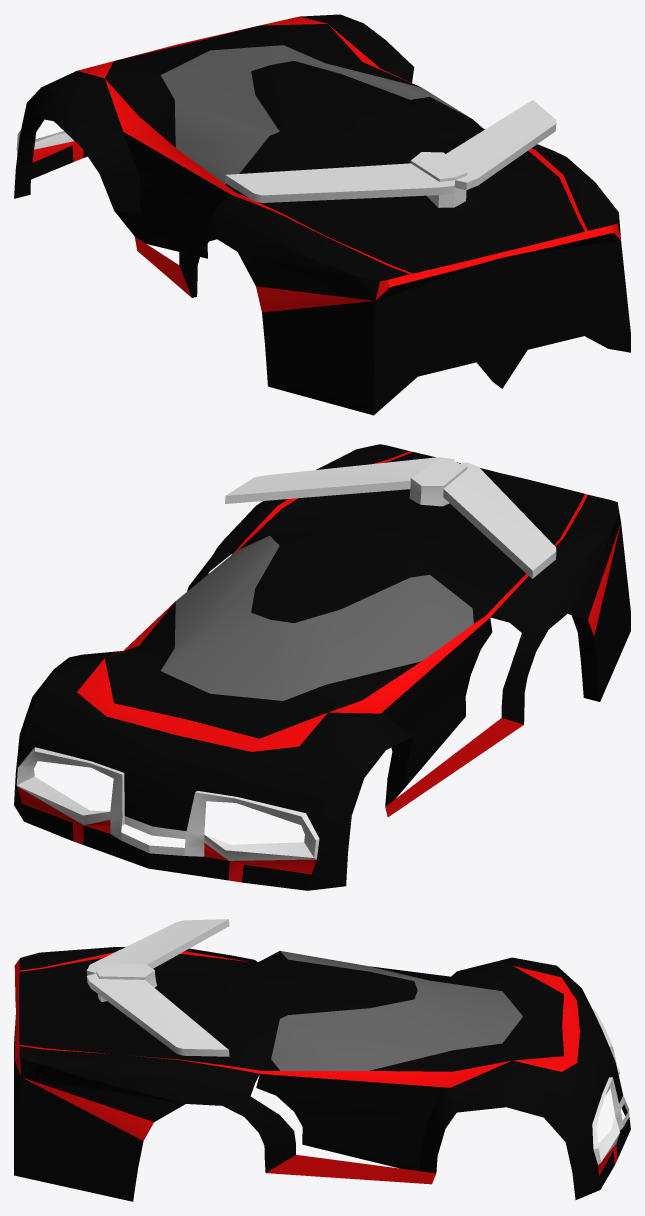
File: SkullShell.fbx
3 views of the same model, one above another, from view 1: azimuth 30°, elevation 25°; view 2: azimuth 150°, elevation 25°; view 3: azimuth 270°, elevation 25° (orthographic). The views are drawn at different scales.
Parts seen in each view (by area): view 1: SupercarSkull; view 2: SupercarSkull; view 3: SupercarSkull.
Boxes of the visible parts, left/top/right/bottom form: SupercarSkull: left=14, top=14, right=630, bottom=415; SupercarSkull: left=14, top=444, right=630, bottom=890; SupercarSkull: left=14, top=919, right=630, bottom=1201.
Size of the model in its own units: 3.81 by 2.03 by 7.04.
